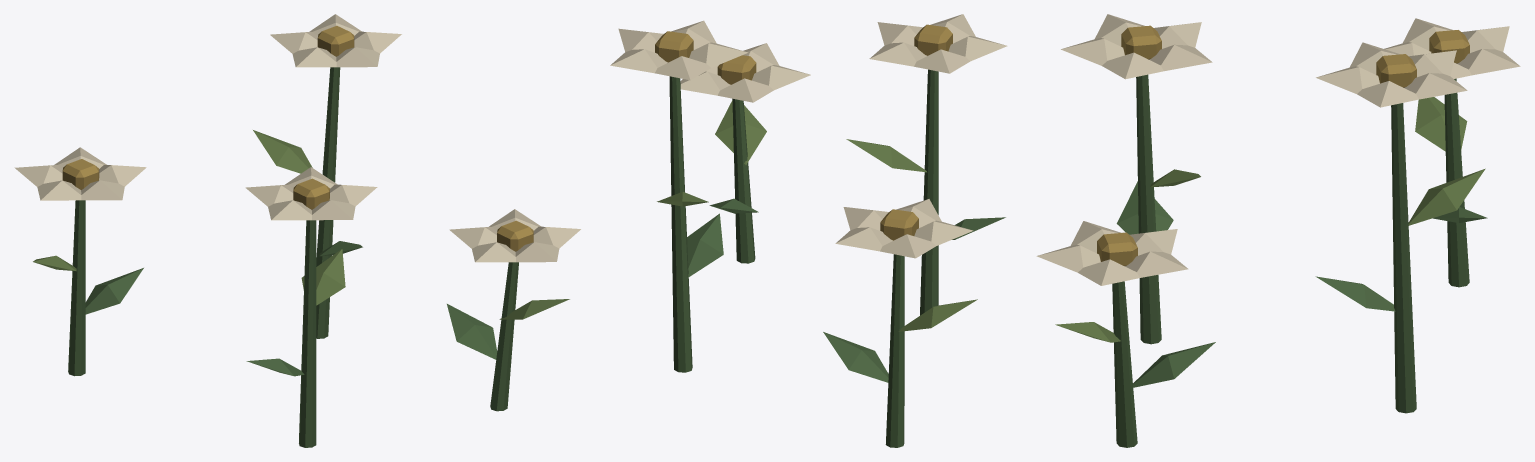
The model's file is flowers_1_summer.glb.
3 renders of one model, left to right at view 1: azimuth 30°, elevation 25°; view 2: azimuth 150°, elevation 25°; view 3: azimuth 270°, elevation 25°, orthographic. The views are drawn at different scales.
Visible parts, largest first — view 1: flowers_1_summer; view 2: flowers_1_summer; view 3: flowers_1_summer.
Boxes of the visible parts, left/top/right/bottom form: flowers_1_summer: left=14, top=14, right=580, bottom=447; flowers_1_summer: left=610, top=14, right=1007, bottom=447; flowers_1_summer: left=1036, top=14, right=1520, bottom=447.
Size of the model in its own units: 1.16 by 0.817 by 1.01.
